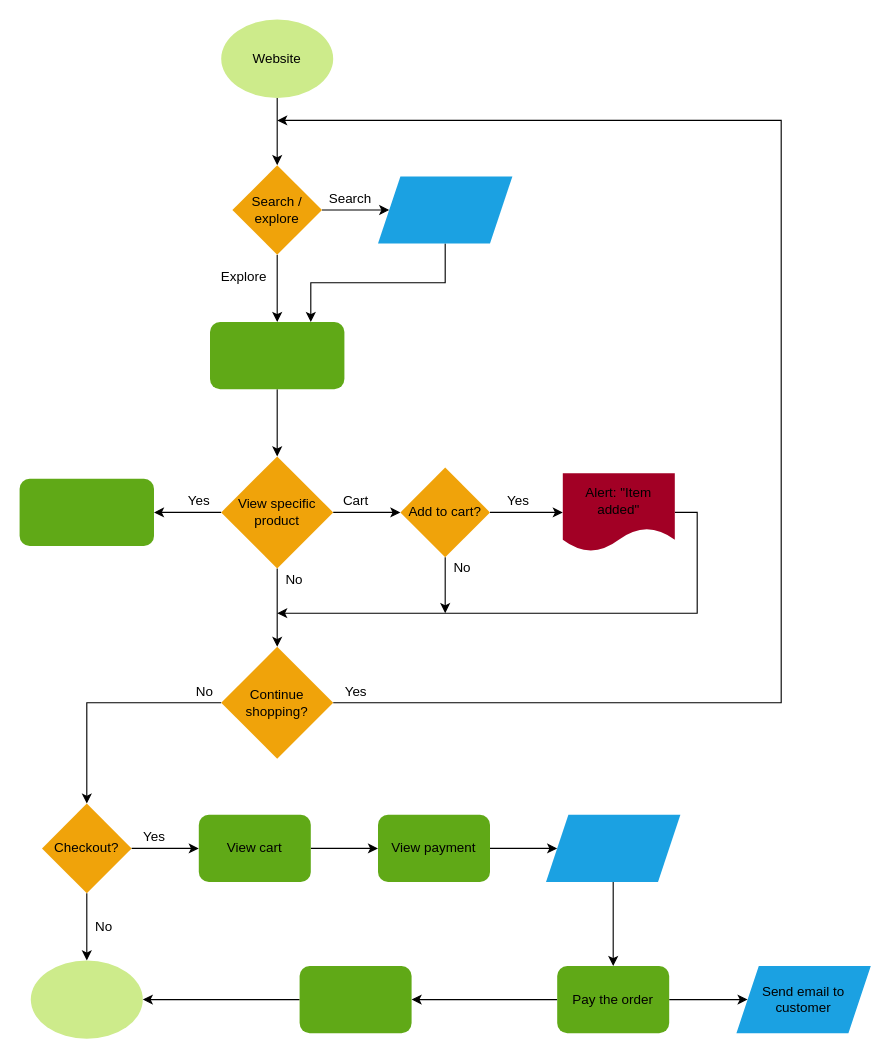
This 889x1057 diagram has some shape labels left out. The shapes that lost their labels are listed below. From the top down, each one's centre as x and y in pixels, then its label:
(x=444, y=209): Read user input
(x=276, y=355): View products
(x=86, y=511): Product's webpage
(x=612, y=847): Input payment info
(x=86, y=999): Leave website
(x=355, y=999): Order confirmation
